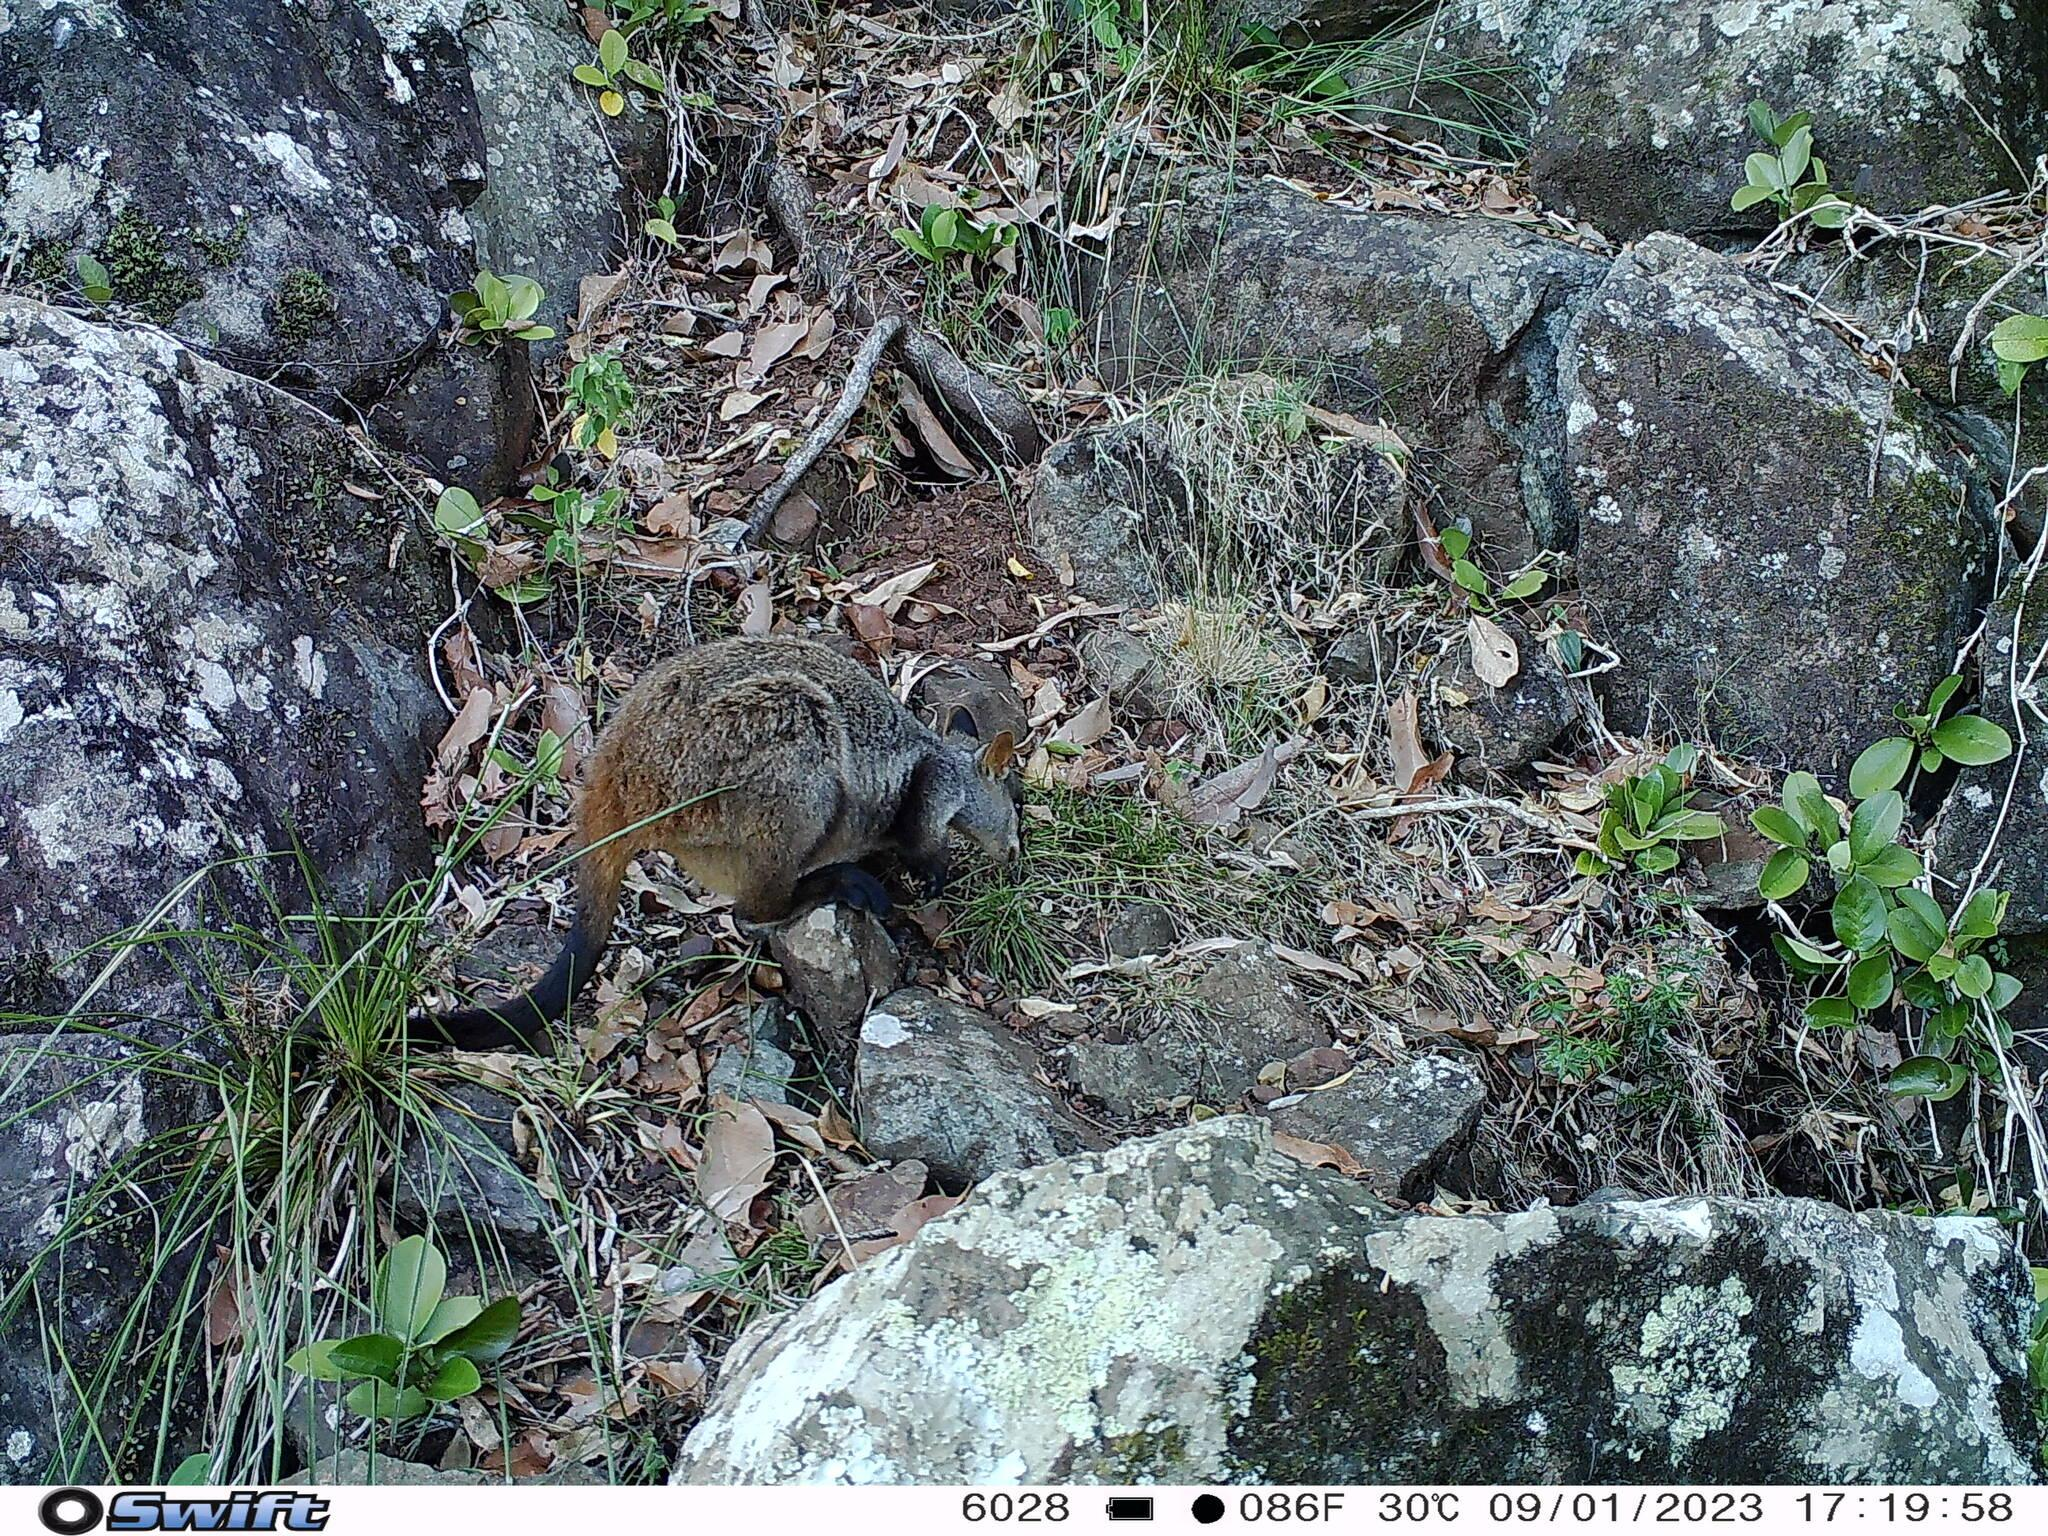Brush-tailed rock-wallaby: (358, 634, 1035, 1078)
